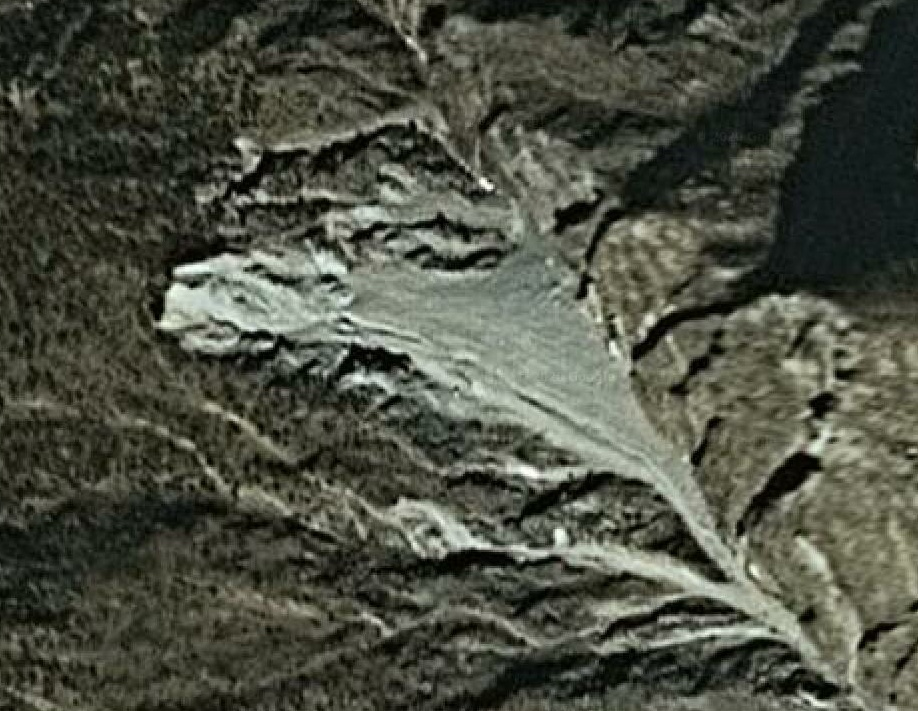slope: (150, 99, 715, 555)
